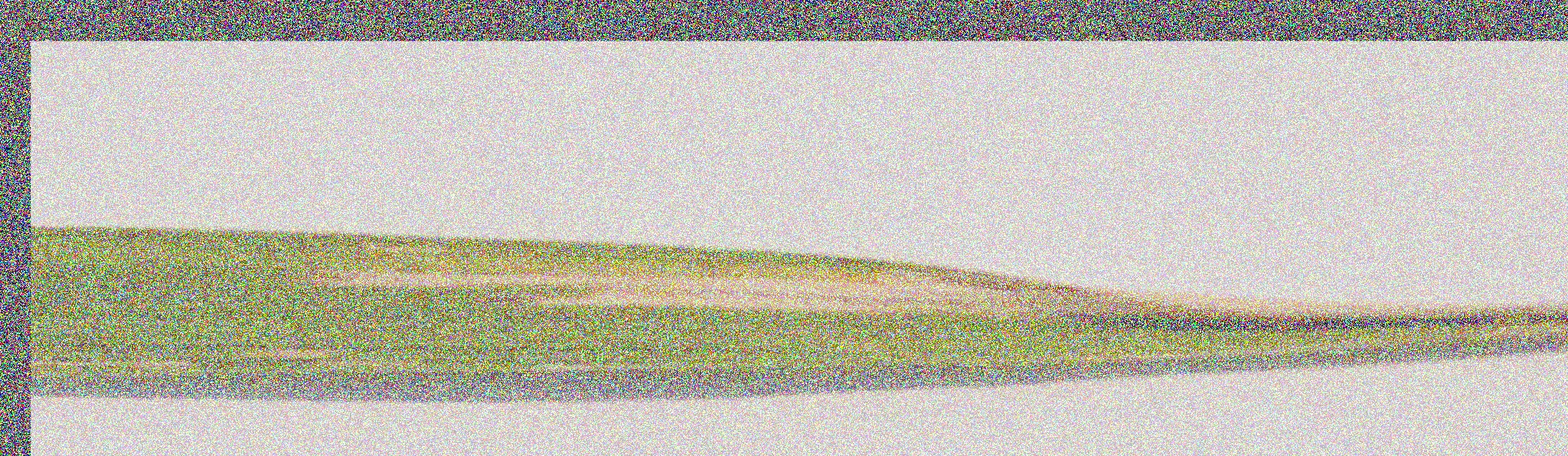Leaf_Blast: (285, 227, 1404, 335)
